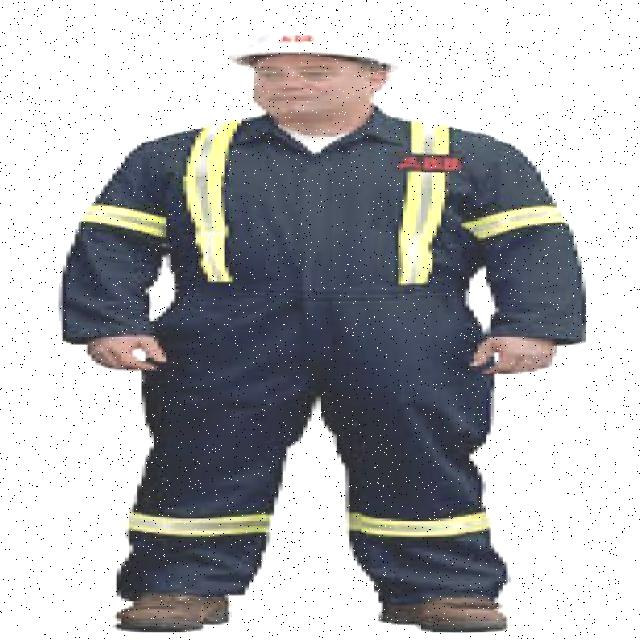Mask: (70, 115, 572, 576)
